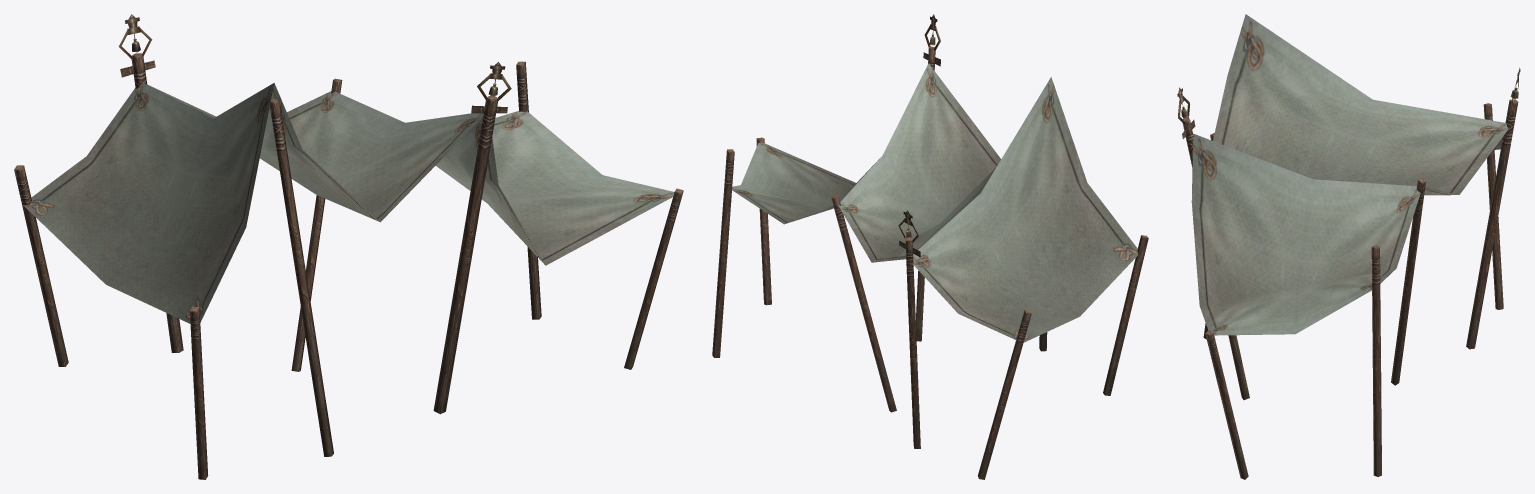
Rendered from yzc_wdm09_LOD1.FBX.
The picture shows the model from 3 angles, left to right: view 1: azimuth 30°, elevation 25°; view 2: azimuth 150°, elevation 25°; view 3: azimuth 270°, elevation 25°; orthographic projection. The views are drawn at different scales.
Visible parts, largest first — view 1: yzc_wdm09_LOD1; view 2: yzc_wdm09_LOD1; view 3: yzc_wdm09_LOD1.
Boxes of the visible parts, left/top/right/bottom form: yzc_wdm09_LOD1: left=14, top=14, right=683, bottom=479; yzc_wdm09_LOD1: left=712, top=14, right=1148, bottom=479; yzc_wdm09_LOD1: left=1177, top=14, right=1520, bottom=479.
Bounding box in the file's own units: 1215 × 881 × 837.
